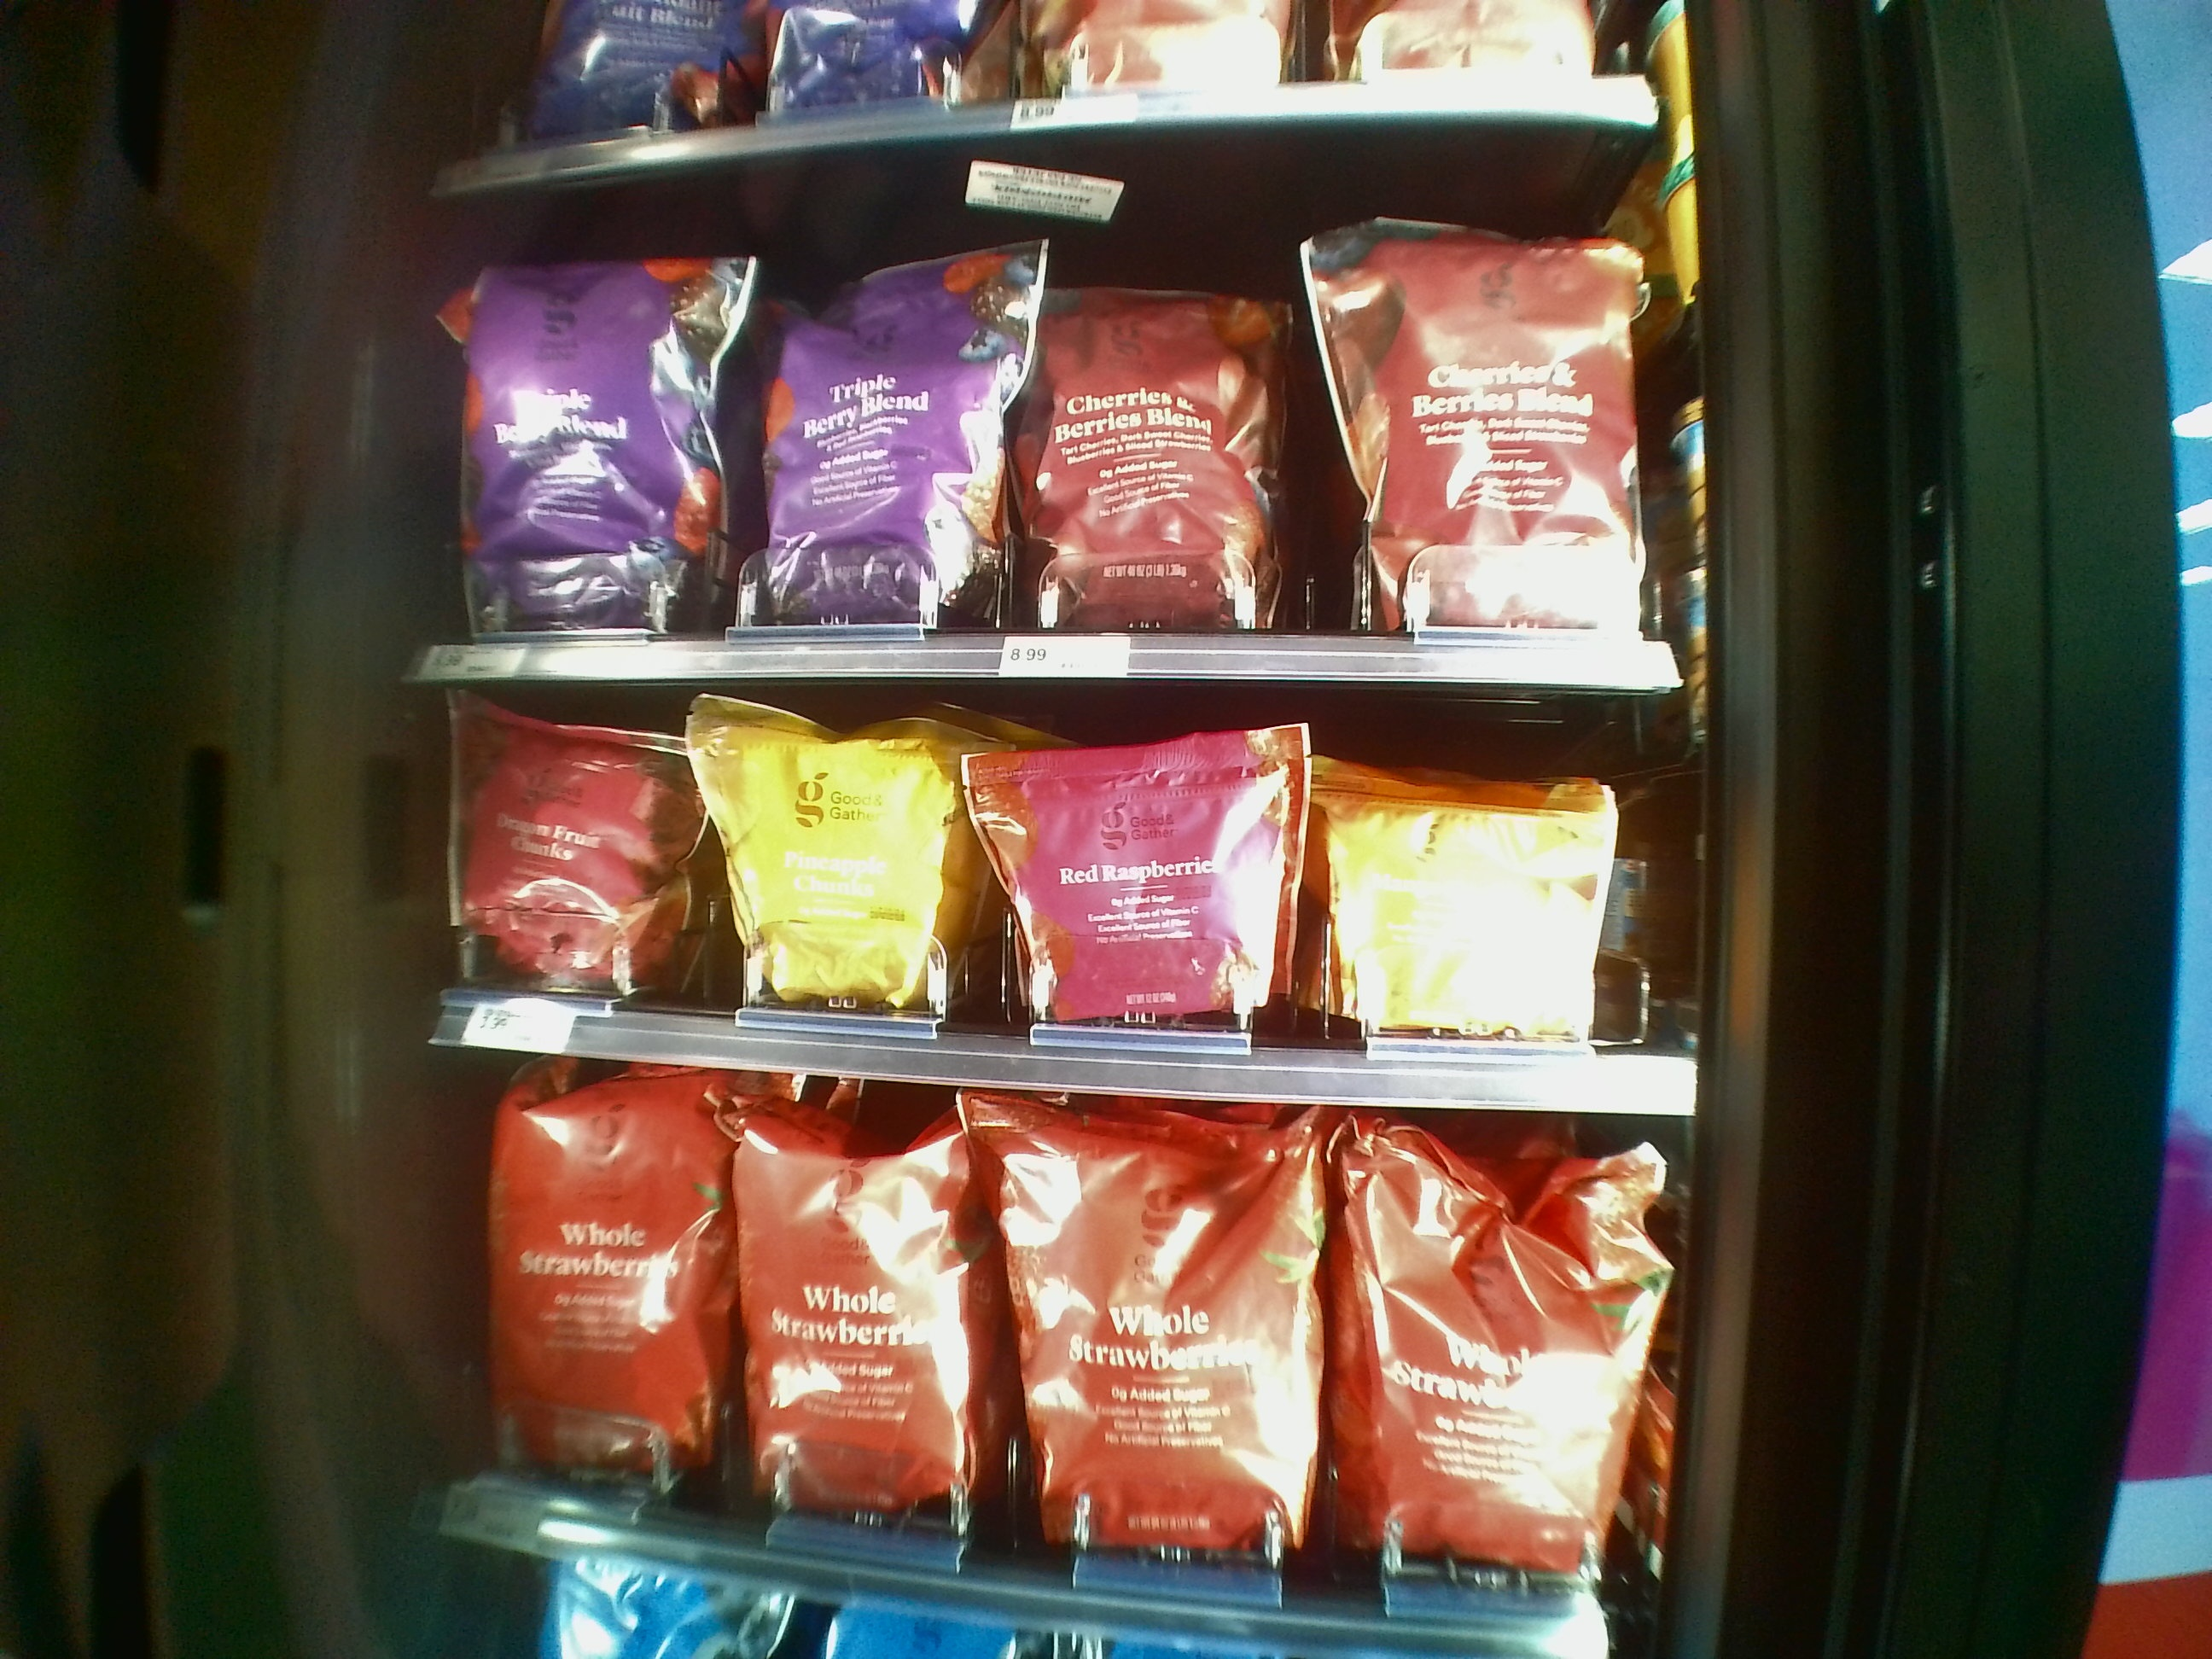shelf: (446, 1087, 1677, 1659), (437, 167, 1696, 692), (415, 681, 1709, 1108)
